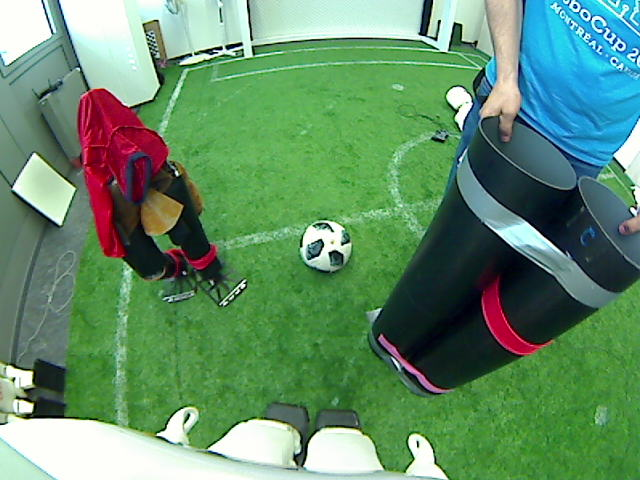ball: (299, 220, 354, 274)
goalpost: (237, 20, 261, 59), (437, 19, 453, 55)
robot: (373, 294, 445, 376), (172, 243, 227, 300), (33, 354, 72, 397)
